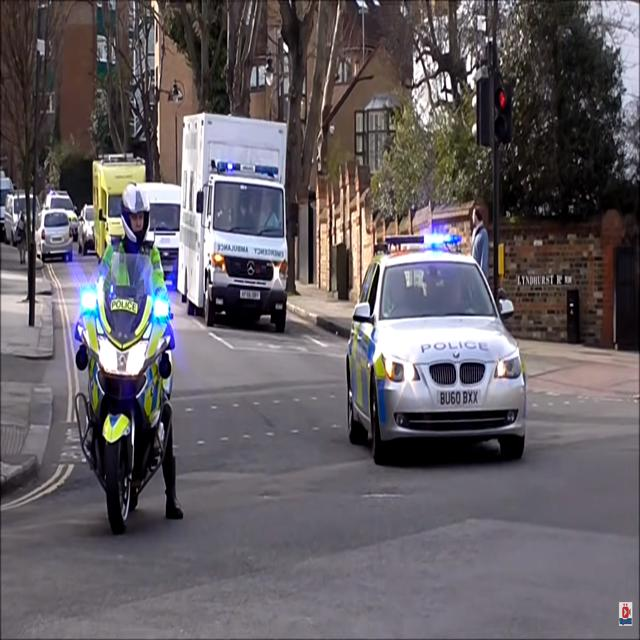emergency-vehicles: (339, 224, 533, 473), (68, 185, 196, 540), (164, 99, 300, 338)
